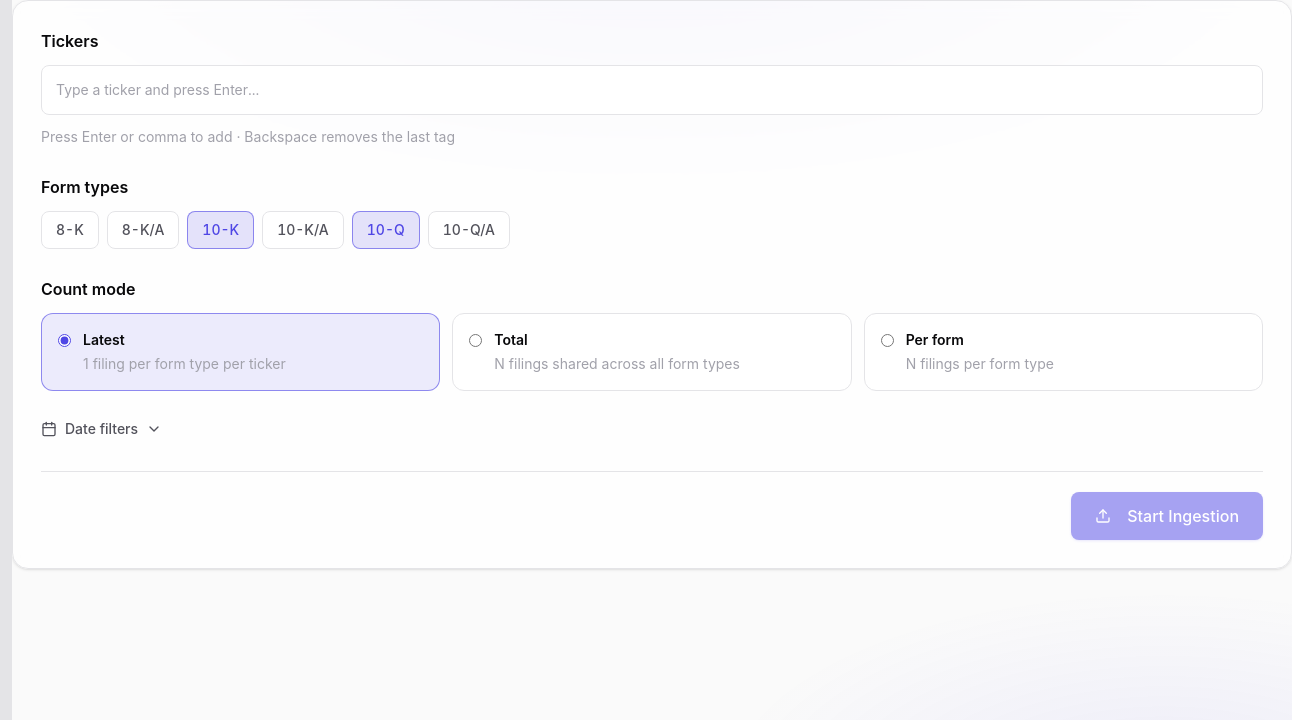
IngestForm › shows a toast when attempting to deselect the last form type
This screenshot has width=1292, height=720.
Click the button "10-K": x=221, y=230 x1=187 y1=211 x2=254 y2=249
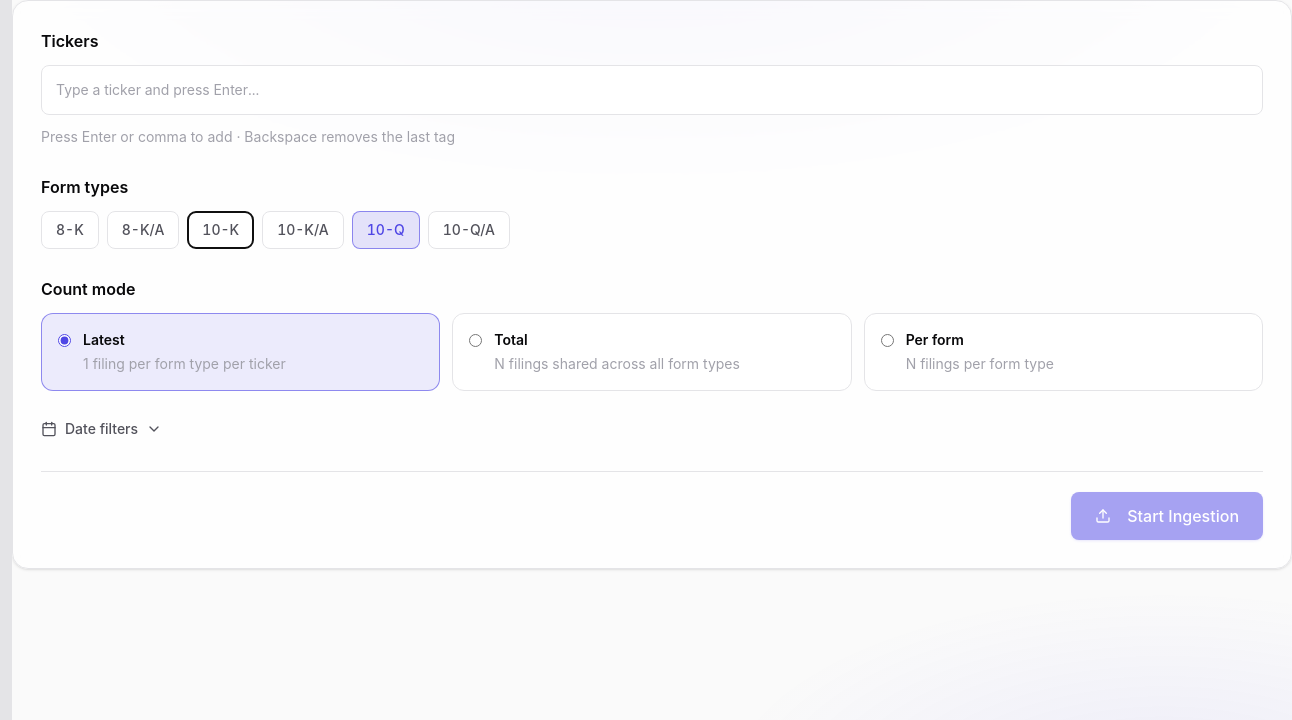
Now only 10-Q remains. Trying to deselect it should show the toast.
Click the button "10-Q": x=386, y=230 x1=352 y1=211 x2=420 y2=249
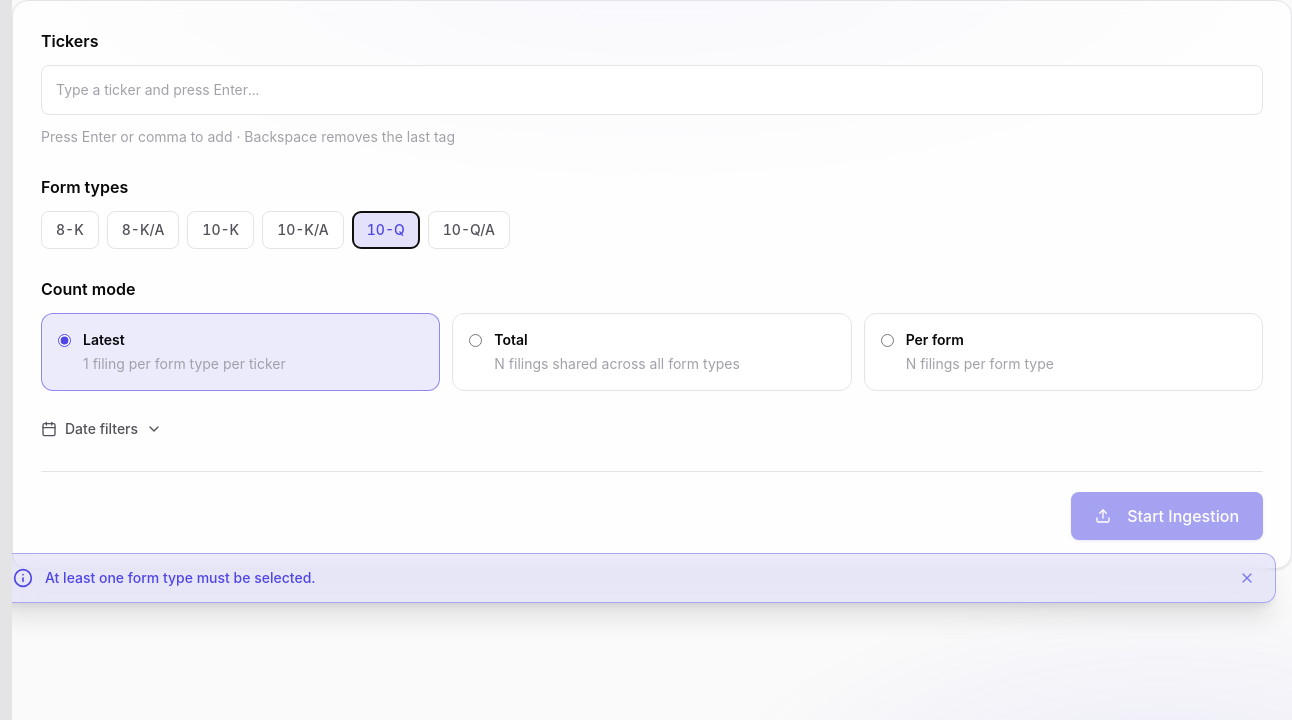
Expected: the text "At least one form type must be selected." is shown, x1=45 y1=568 x2=316 y2=588
